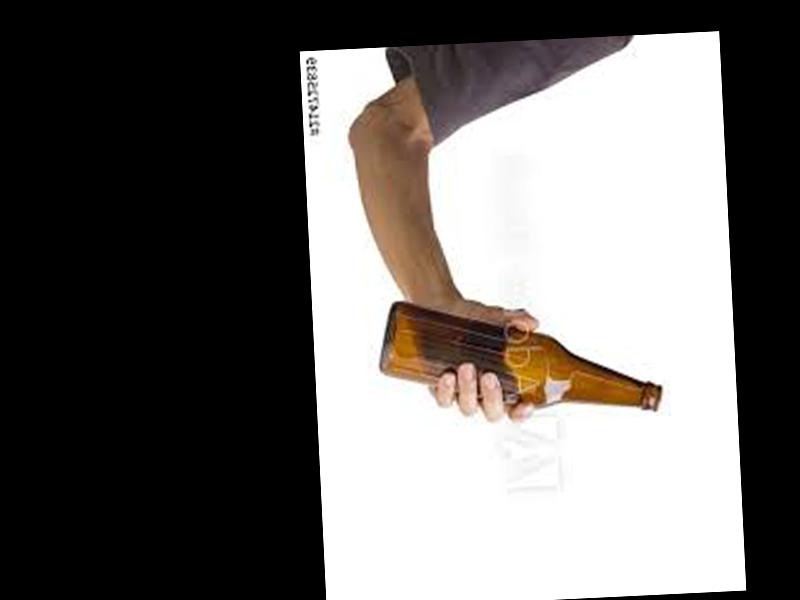Beer: (376, 288, 664, 426)
